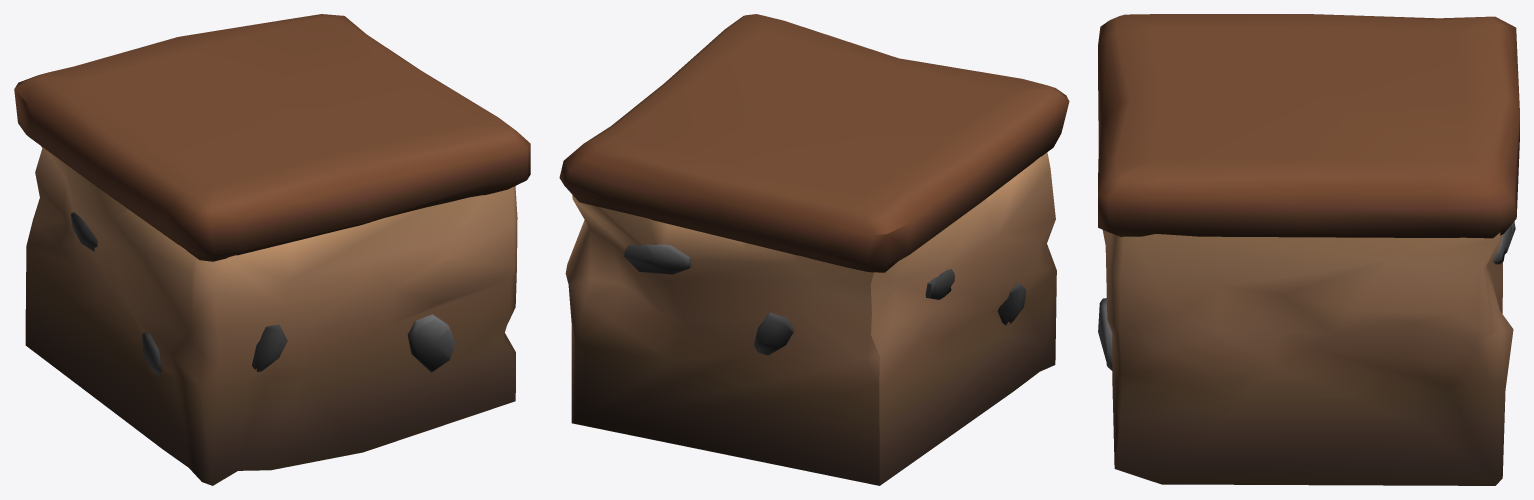
Rendered from Ground_2.fbx.
3 renders of one model, left to right at view 1: azimuth 30°, elevation 25°; view 2: azimuth 150°, elevation 25°; view 3: azimuth 270°, elevation 25°, orthographic. The views are drawn at different scales.
Visible parts, largest first — view 1: Ground_2; view 2: Ground_2; view 3: Ground_2.
Boxes of the visible parts, box(x1,y1,x2,y2) form: Ground_2: box(14, 14, 530, 485); Ground_2: box(559, 14, 1069, 485); Ground_2: box(1098, 14, 1519, 485).
Bounding box in the file's own units: 415 × 334 × 414.
